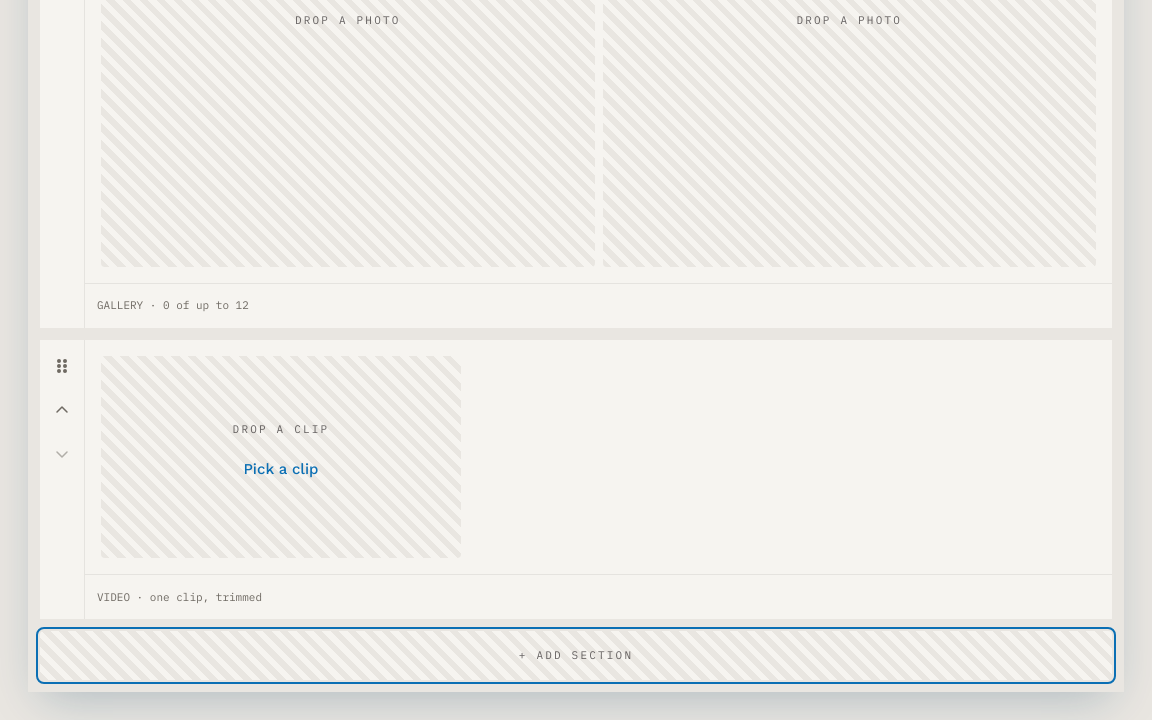
Test: SectionPicker › Cancel does the same as Escape, and adds nothing
The width and height of the screenshot is (1152, 720).
(page scrolled)
Press Enter
(page scrolled)
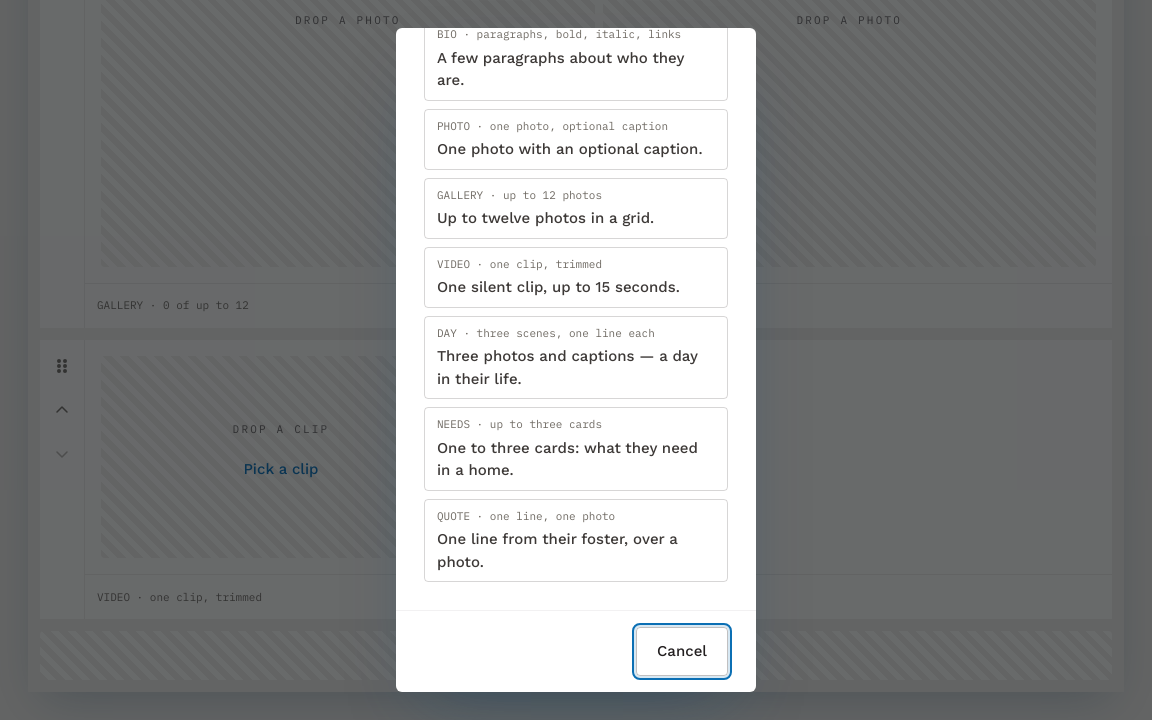
Click the button "Cancel". click: (682,652)
box: [636,627,728,676]
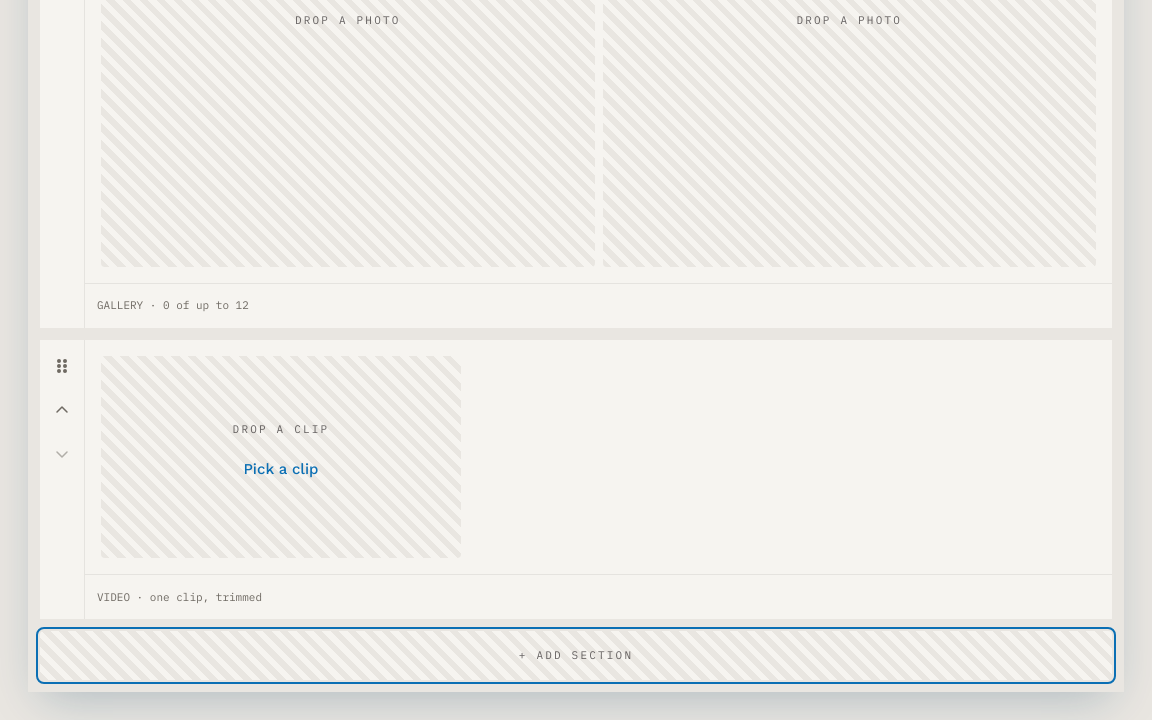
Result: the dialog is gone
